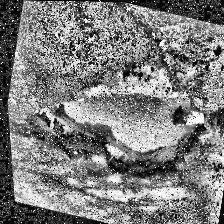pothole: (17, 64, 209, 198)
